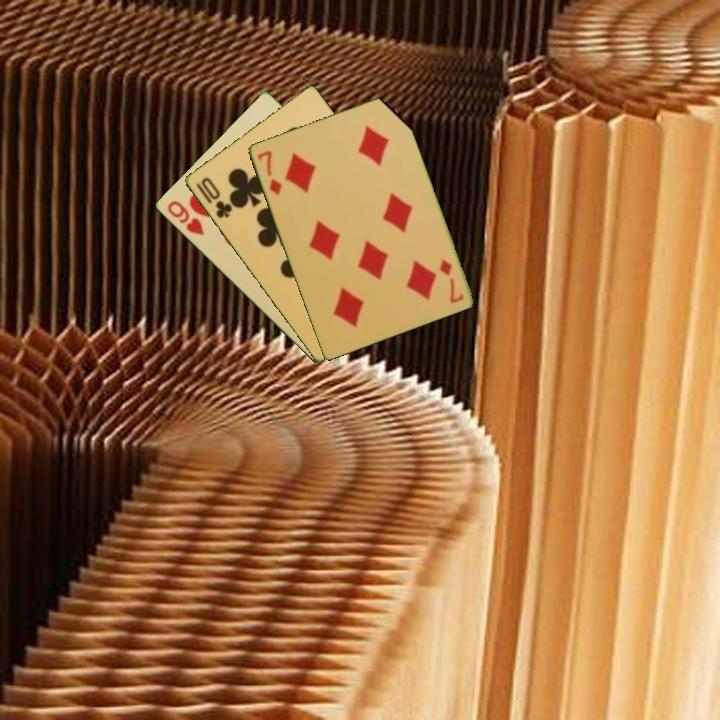10c: (192, 174, 235, 221)
7d: (253, 146, 285, 198), (435, 256, 466, 306)
9h: (163, 197, 207, 238)
